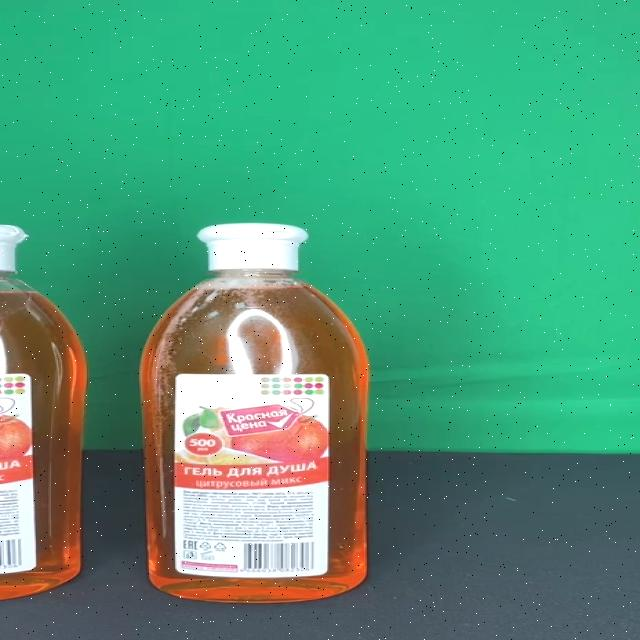Bottle: (137, 222, 369, 602)
Cap: (195, 223, 308, 272)
